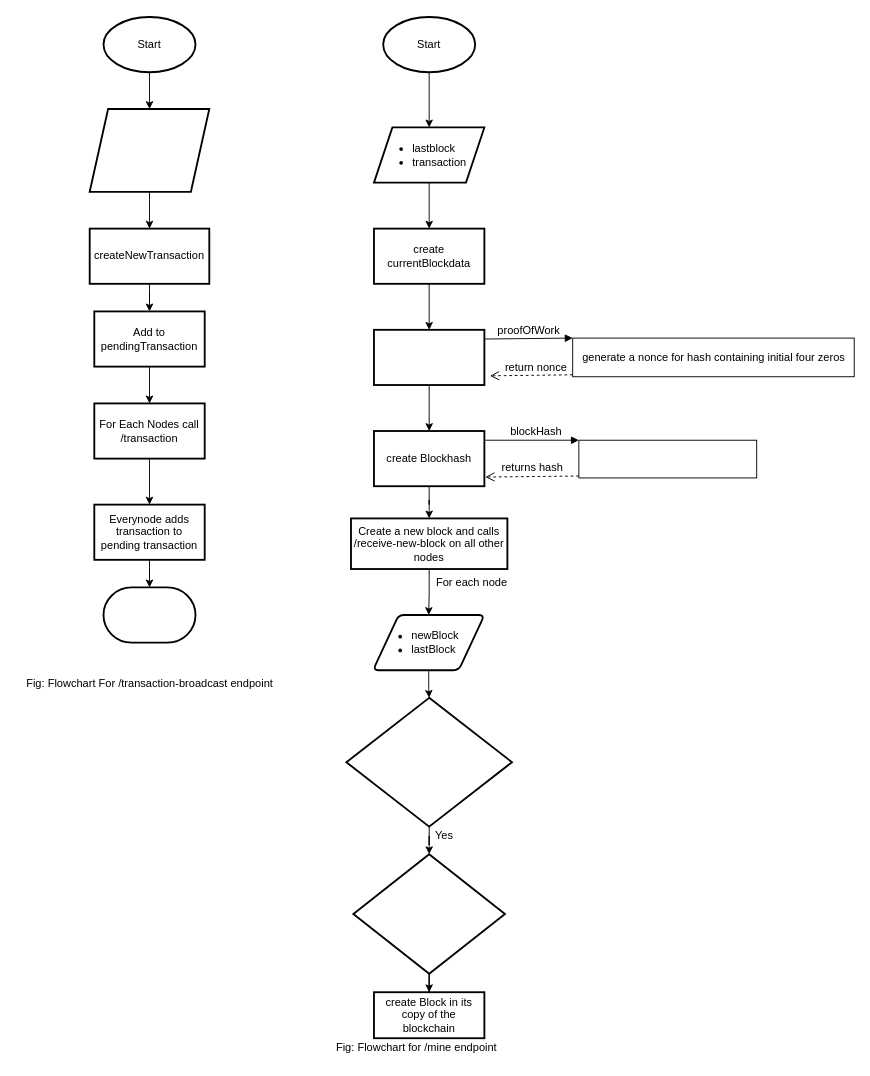
Some shapes in this 870 by 1076 pixel diagram are drawn without their labels. Each missing label, with the centre of its shape:
category sender receiver transactionId: point (149, 150)
create Nonce for currentBlockdata using proof of work: point (429, 356)
End: point (149, 614)
generate hash using sha256: point (667, 458)
Is lastBlock hash === newBlock previoushash ?: point (428, 761)
IS lastBlock Index+1 === newBlock Index ?: point (428, 913)
